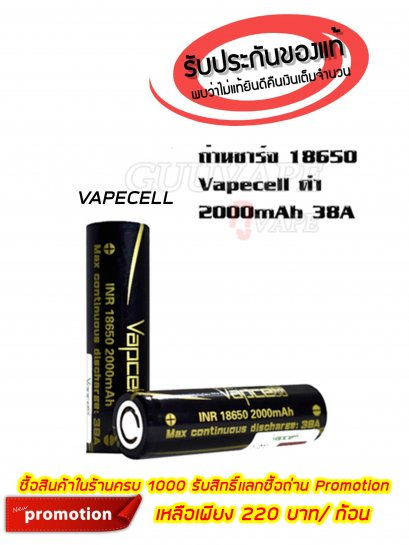Battery: (112, 379, 332, 462), (82, 218, 152, 459)
